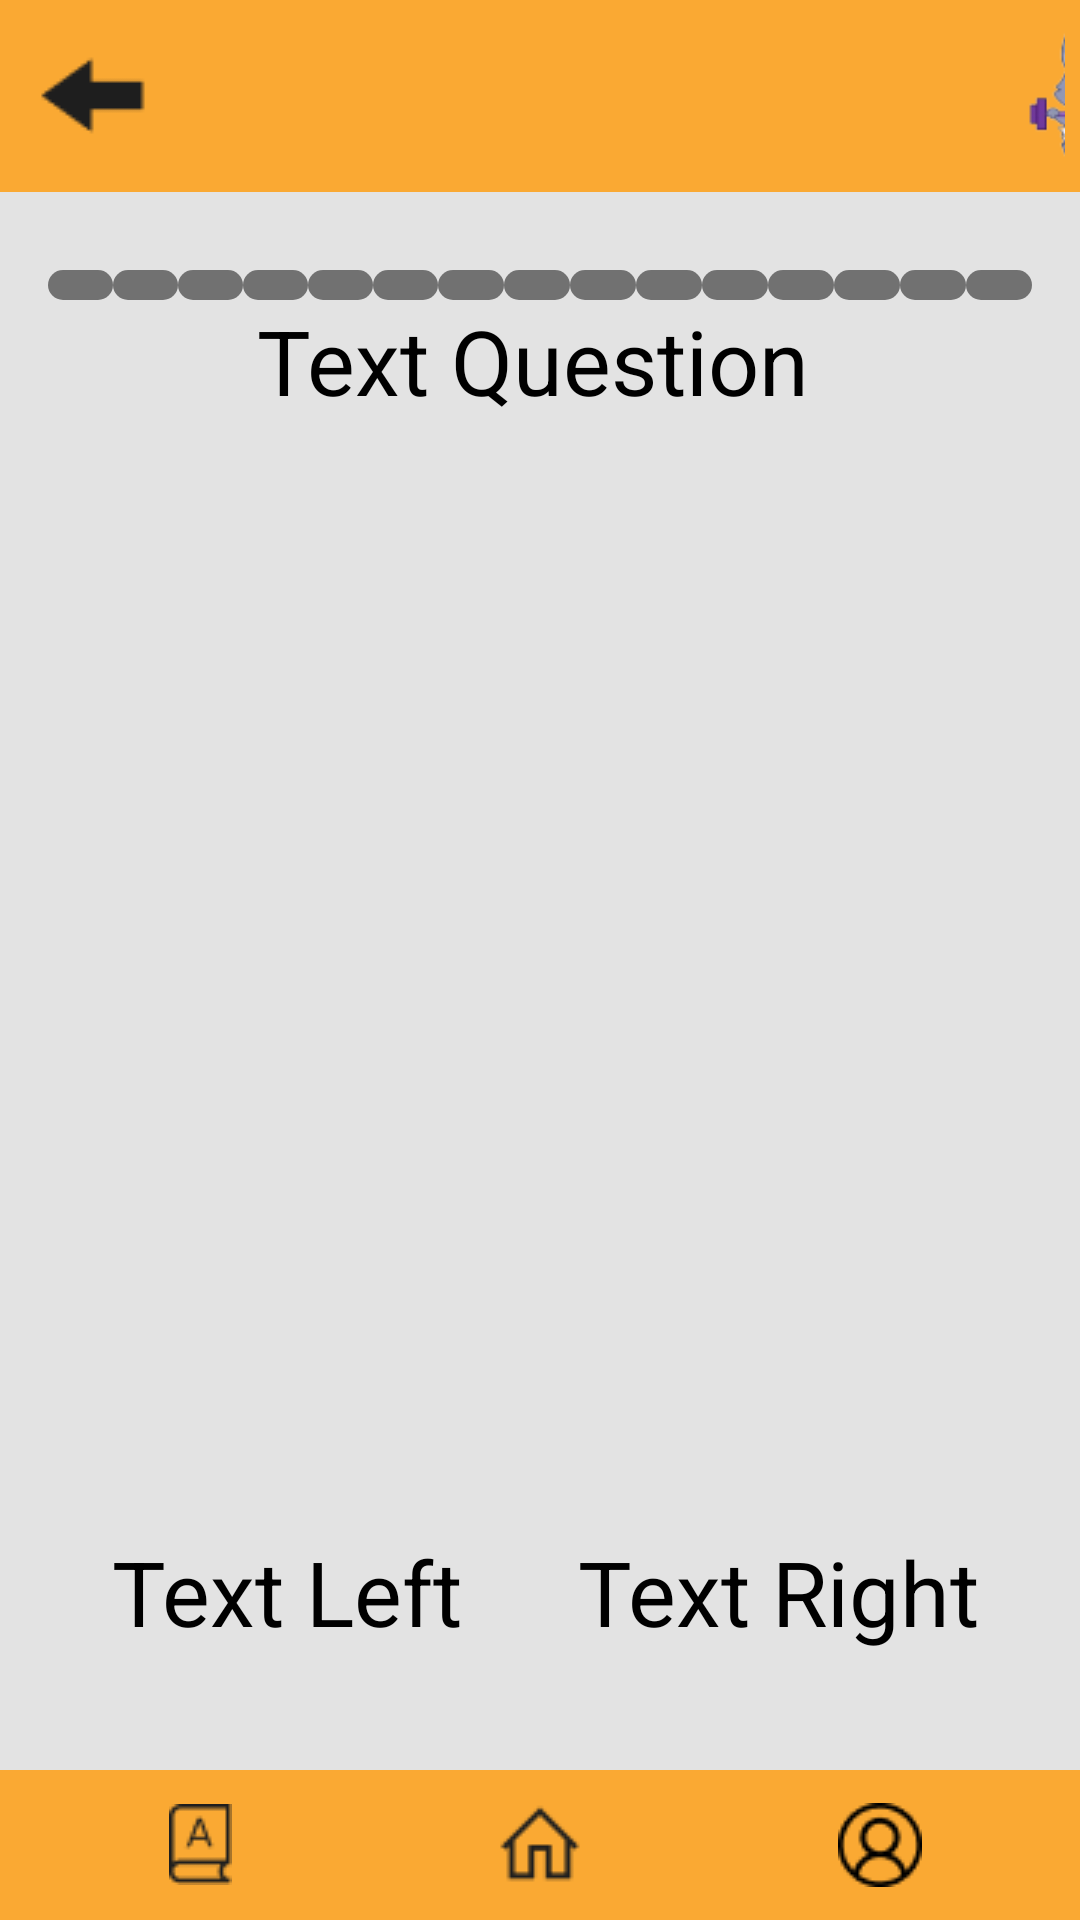

Icons on this 1080w x 1920h Android screen, each with the point to tap as [x,y]:
Аккаунт: [880,1845]
Главная: [540,1844]
Назад: [93,95]
Словарь: [200,1844]
